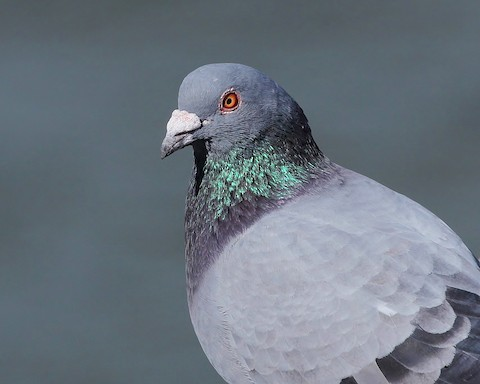pigeon: (143, 53, 473, 376)
